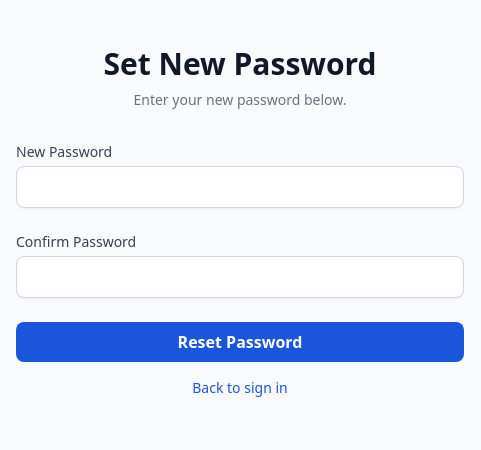
Test: Reset Password Page › shows error when passwords do not match
The width and height of the screenshot is (481, 450).
Type "password123" into the password field labelled "New Password".
click(240, 187); type("password123")  # box [16,166,464,208]
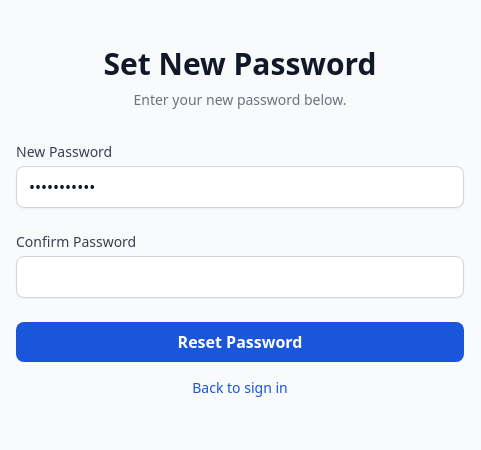
Type "password456" into the password field labelled "Confirm Password".
click(240, 277); type("password456")  # box [16,256,464,298]
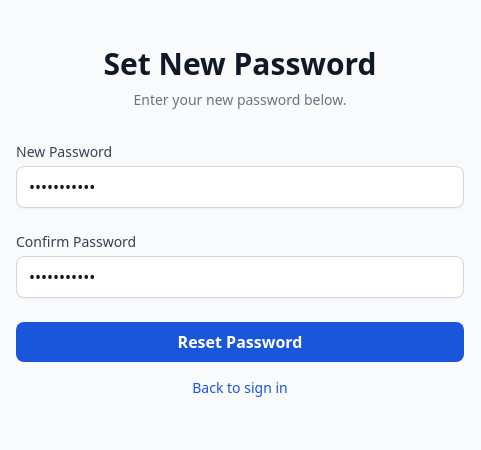
Click the button "Reset Password".
click(240, 342)  # box [16,322,464,362]
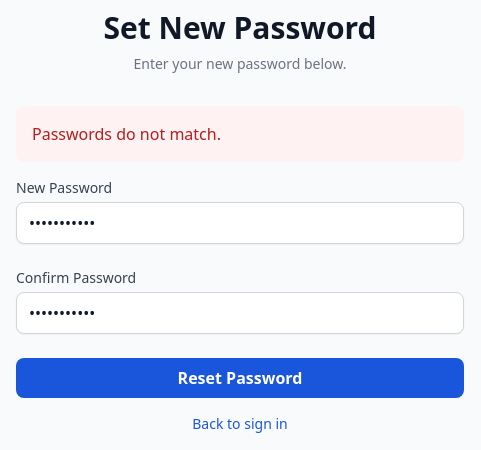
Result: the text "Passwords do not match." is shown at [16,106,464,162]
